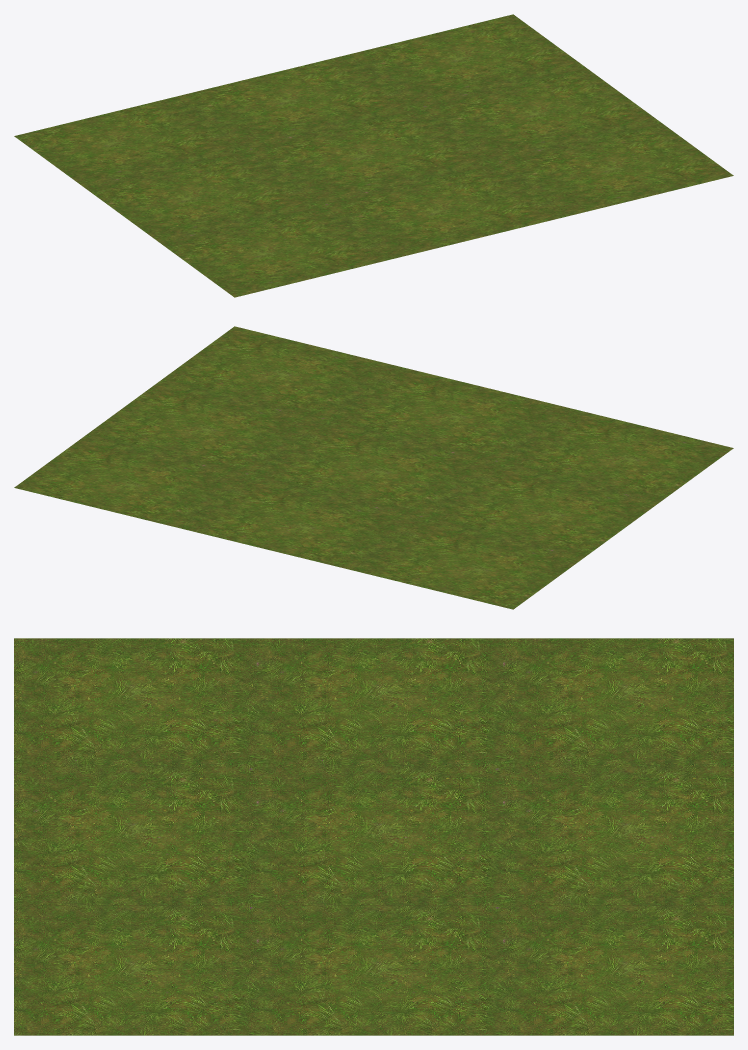
Rendered from city_01_plane.FBX.
3 views of the same model, one above another, from view 1: azimuth 30°, elevation 25°; view 2: azimuth 150°, elevation 25°; view 3: azimuth 270°, elevation 25° (orthographic). The views are drawn at different scales.
Visible parts, largest first — view 1: city_01_plane; view 2: city_01_plane; view 3: city_01_plane.
Part boxes in pixels (box(x1,y1,x2,y2)): city_01_plane: box(14, 14, 733, 297); city_01_plane: box(14, 326, 733, 609); city_01_plane: box(14, 638, 733, 1035).
Bounding box in the file's own units: 1029 × 0.000122 × 788.
